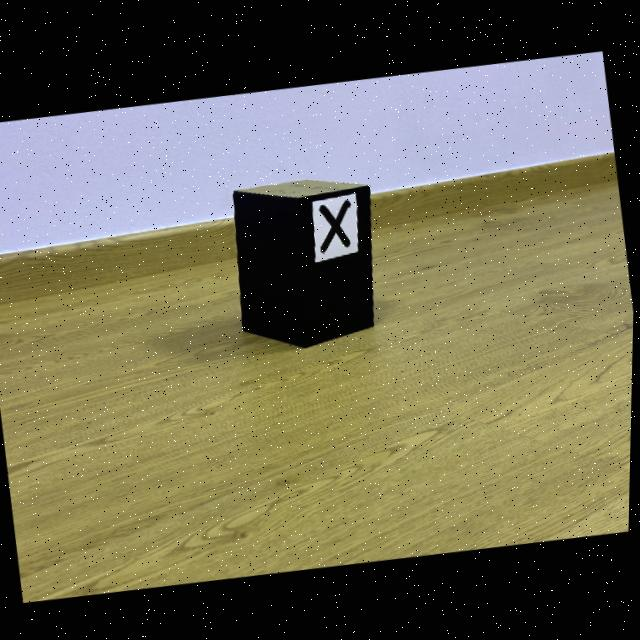X: (321, 199, 353, 252)
